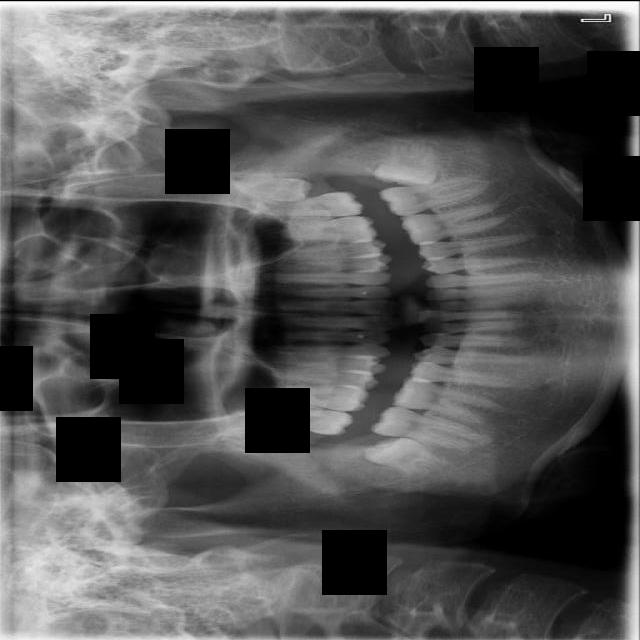3M ESPE Implant: (219, 415, 301, 445)
52: (355, 329, 389, 344), (353, 285, 392, 298)
73: (593, 42, 608, 48)
BioHorizons Implant: (254, 189, 364, 219)
BioLife Implant: (227, 174, 314, 203)
Biomet 3i Implant: (373, 140, 437, 187)
Blue Sky Bio Implant: (377, 173, 486, 220)
Caries: (249, 397, 356, 438)
Implant: (369, 401, 485, 452)
Keystone Dental Implant: (360, 421, 456, 490)
